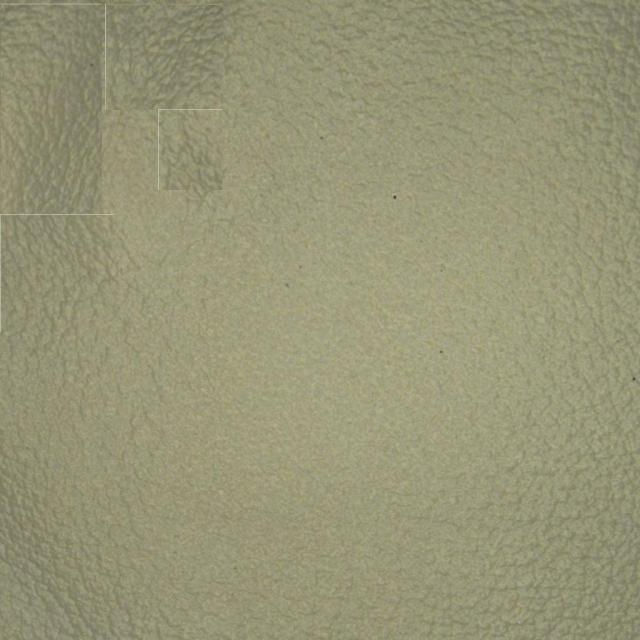Healed Injury: (94, 12, 275, 221)
